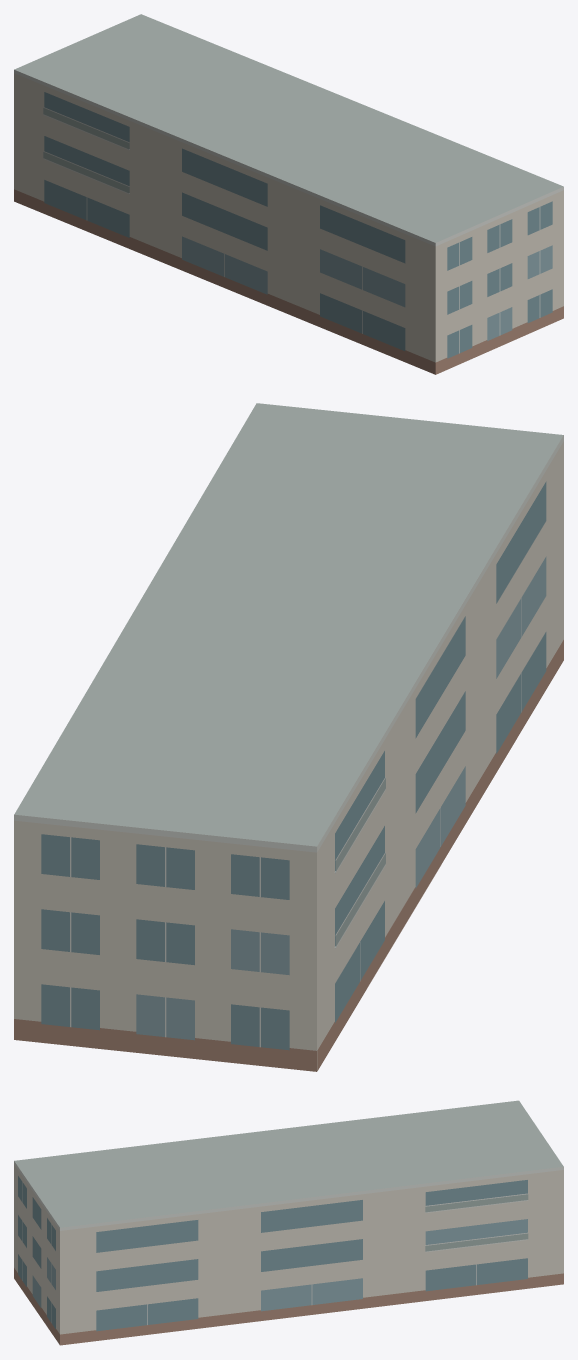
Rendered from survey-upis-32926335.glb.
3 views of the same model, one above another, from view 1: azimuth 30°, elevation 25°; view 2: azimuth 150°, elevation 25°; view 3: azimuth 270°, elevation 25° (orthographic). The views are drawn at different scales.
Visible parts, largest first — view 1: survey-upis-32926335.tmp; view 2: survey-upis-32926335.tmp; view 3: survey-upis-32926335.tmp.
Boxes of the visible parts, x1,y1,x2,y2 form: survey-upis-32926335.tmp: [14, 14, 563, 374]; survey-upis-32926335.tmp: [14, 403, 563, 1071]; survey-upis-32926335.tmp: [14, 1100, 563, 1345].
Size of the model in its own units: 21.26 by 9.15 by 38.78.
